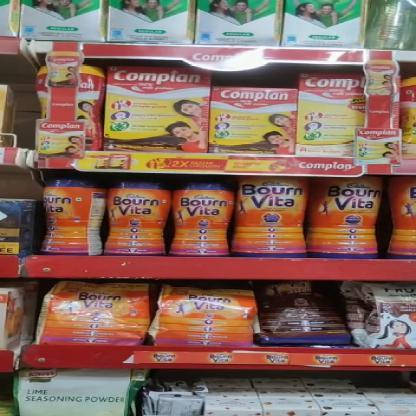Complan Kesar Badam: (298, 74, 366, 158)
Complan Royal Chocolate: (106, 65, 211, 153), (209, 87, 299, 155)
